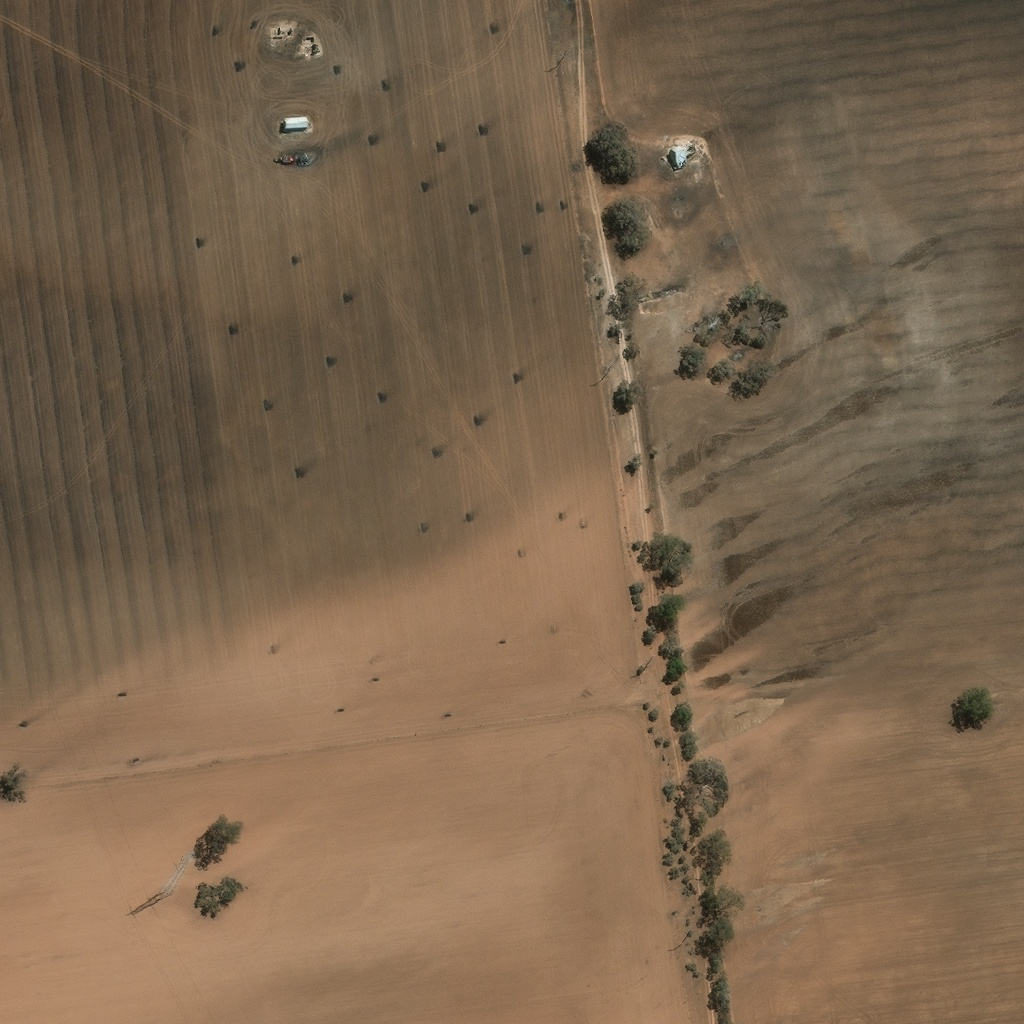0 no-damage: (286, 117, 309, 130)
3 destroyed: (672, 140, 696, 165), (301, 34, 318, 51), (280, 26, 296, 36)
